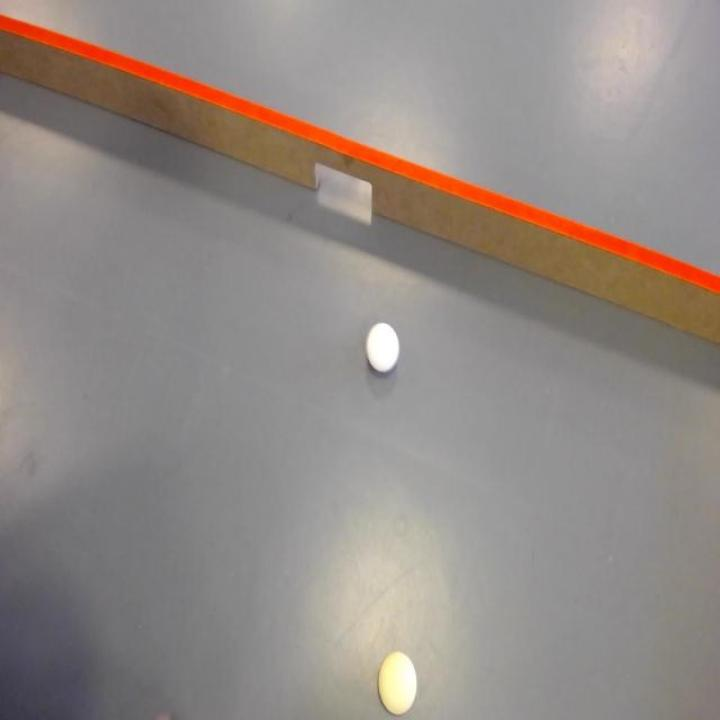white: (376, 649, 419, 715), (366, 322, 400, 374)
